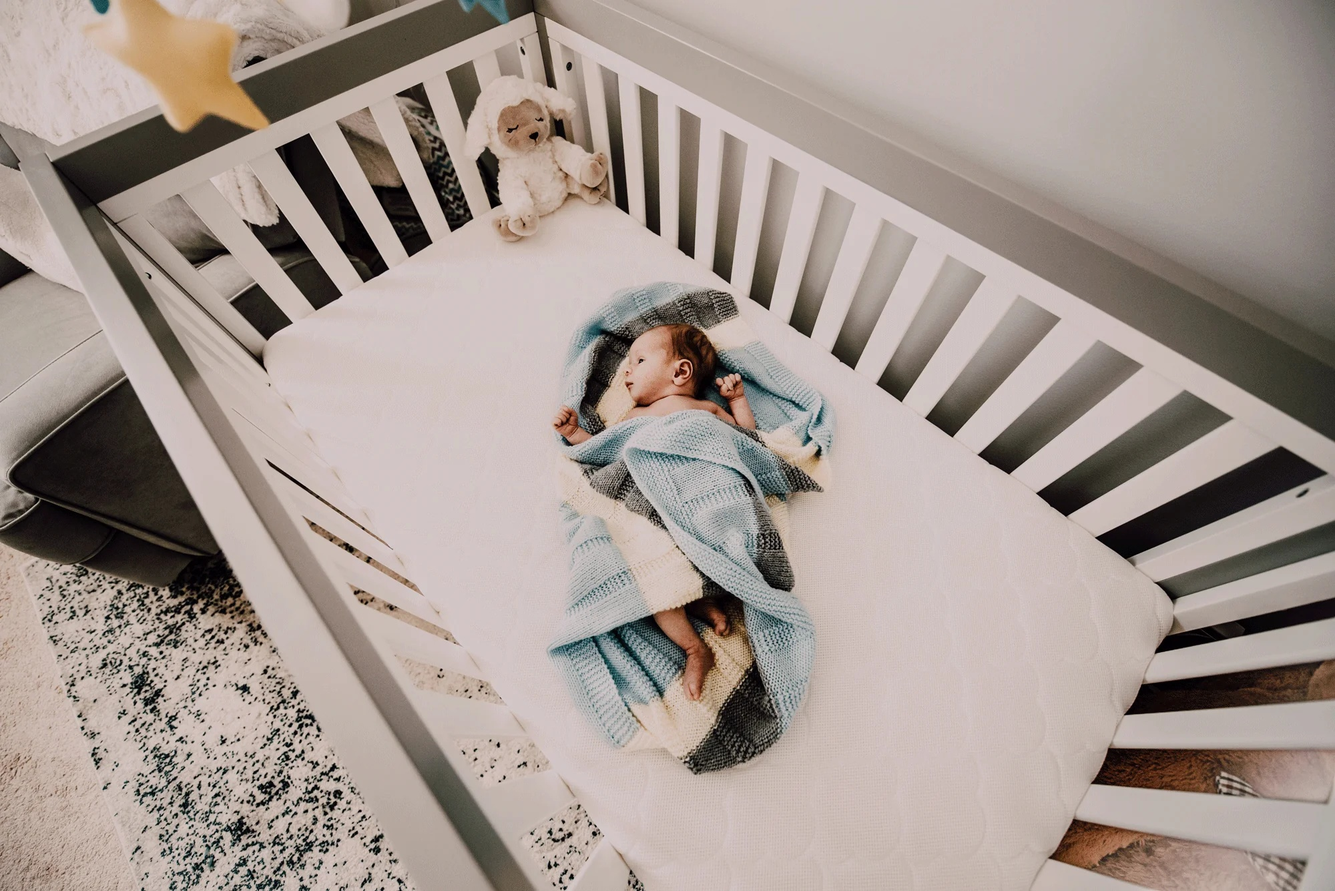baby: (624, 324, 756, 429)
crib: (21, 0, 1334, 888)
